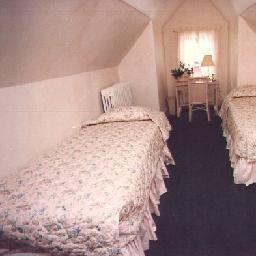Cama: (0, 109, 168, 244), (224, 85, 253, 180)
